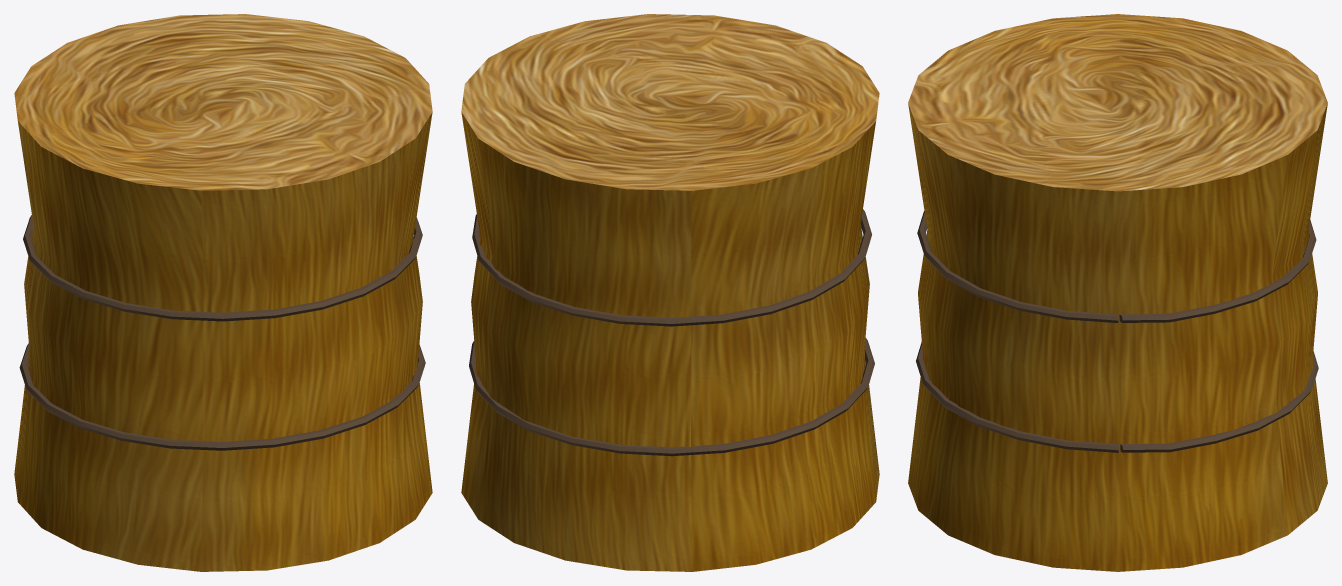
File: seno2.fbx
The picture shows the model from 3 angles, left to right: view 1: azimuth 30°, elevation 25°; view 2: azimuth 150°, elevation 25°; view 3: azimuth 270°, elevation 25°; orthographic projection.
Visible parts, largest first — view 1: pCylinder2, pasted__pasted__pCylinder3, pasted__pCylinder3; view 2: pCylinder2, pasted__pCylinder3, pasted__pasted__pCylinder3; view 3: pCylinder2, pasted__pCylinder3, pasted__pasted__pCylinder3.
Boxes of the visible parts, x1,y1,x2,y2 form: pCylinder2: (14,14,432,571); pasted__pasted__pCylinder3: (19,343,425,450); pasted__pCylinder3: (23,215,422,321); pCylinder2: (461,14,879,571); pasted__pCylinder3: (472,209,871,326); pasted__pasted__pCylinder3: (469,338,874,456); pCylinder2: (908,14,1327,571); pasted__pCylinder3: (917,211,1316,322); pasted__pasted__pCylinder3: (916,342,1318,452).
Size of the model in its own units: 2 by 2 by 2.
Materials: 3 (2 with a texture image).
